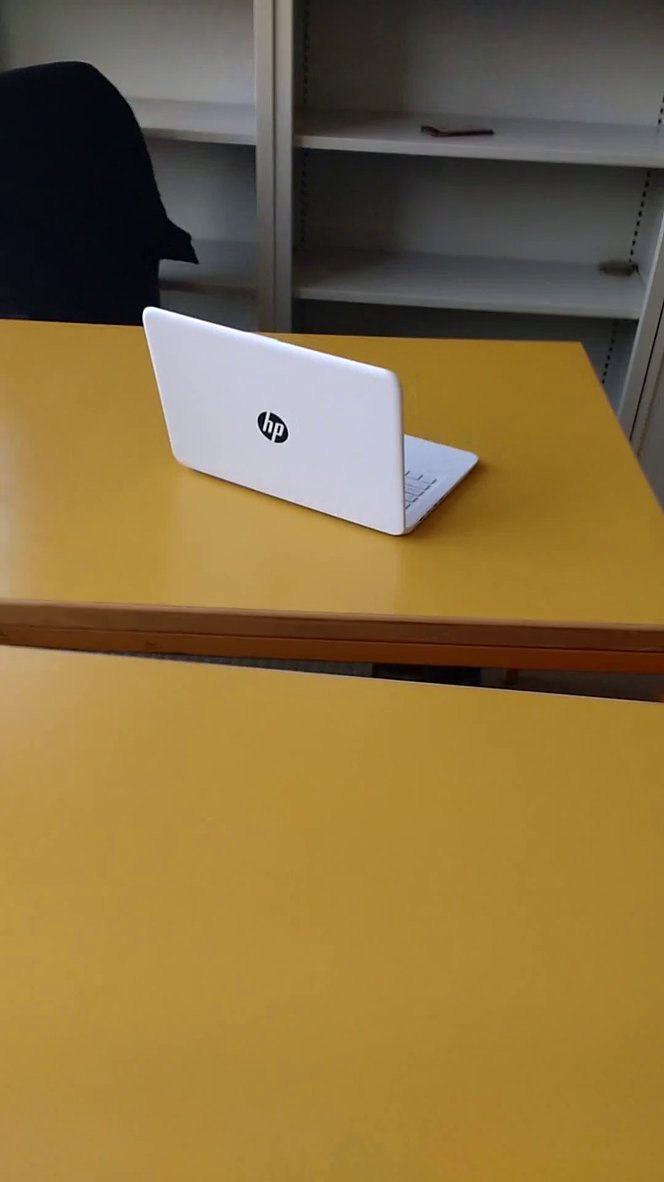laptop: (132, 292, 498, 546)
